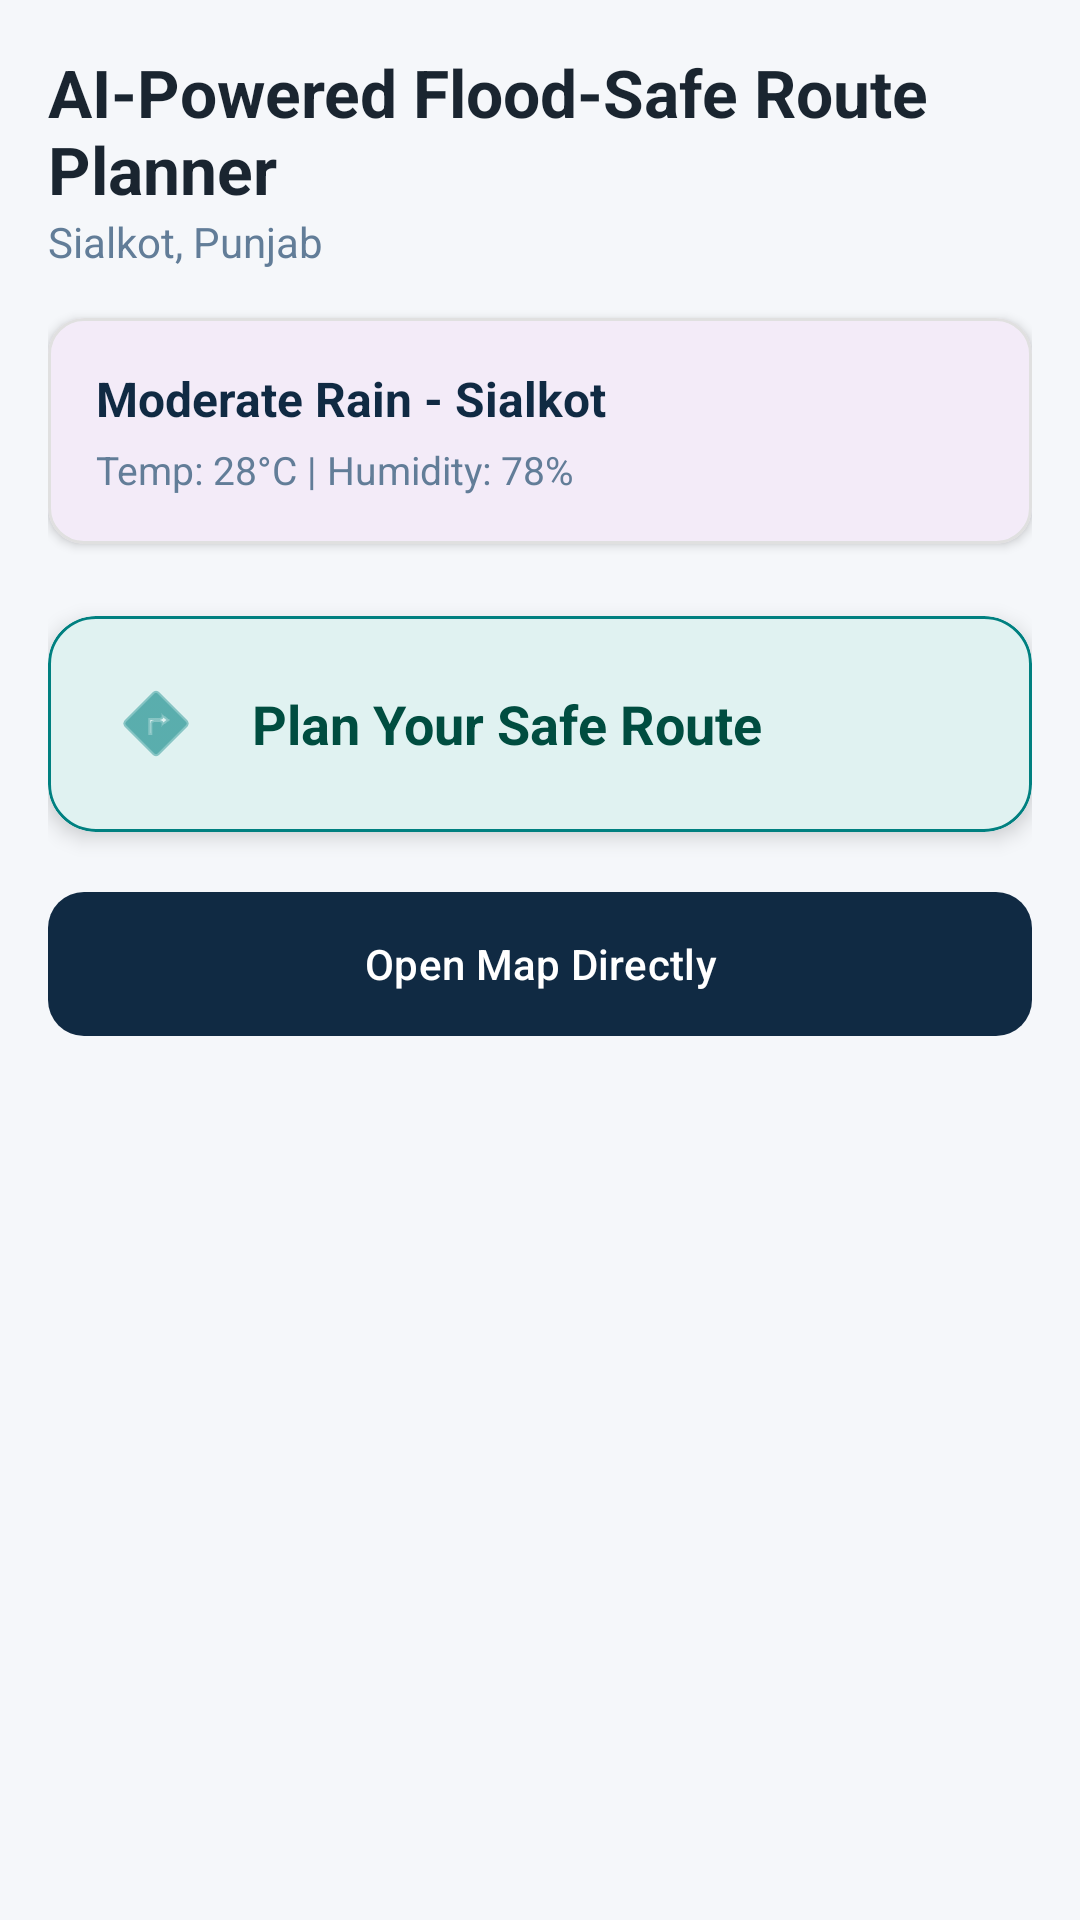

Named icons in this screenshot (1080*1920) and their bounding boxes, Rect(x1, y1, x2, y2):
directions: Rect(123, 691, 189, 756)
